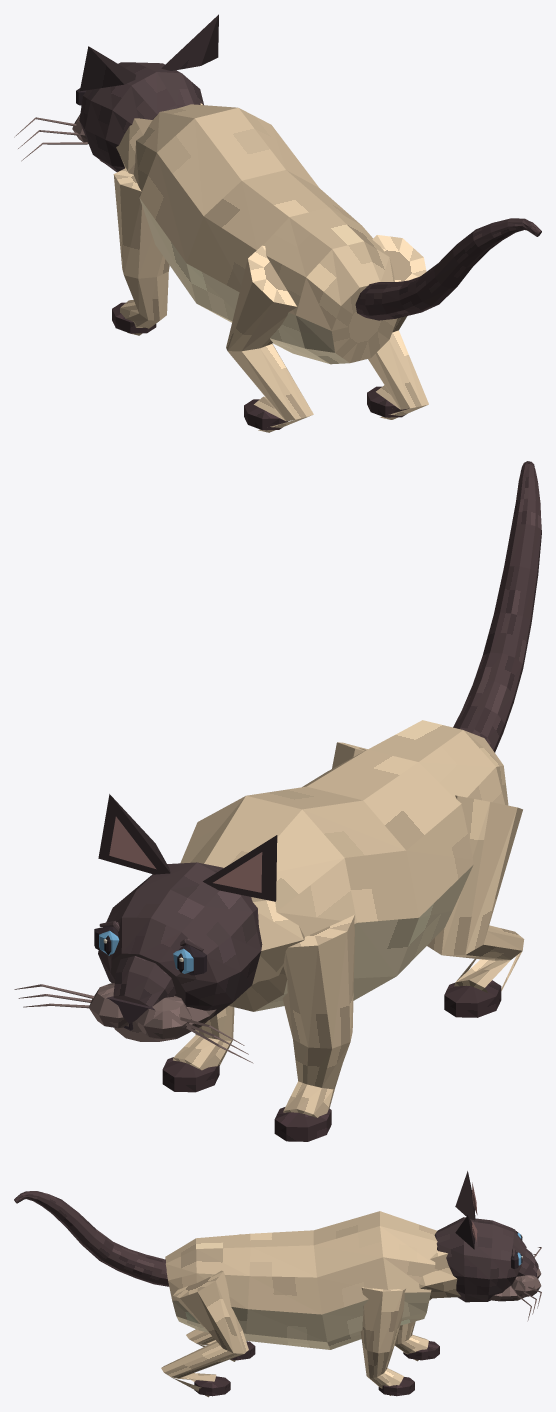
Rendered from mon_cat_siamese_kitten.glb.
The picture shows the model from 3 angles, top to bottom: view 1: azimuth 30°, elevation 25°; view 2: azimuth 150°, elevation 25°; view 3: azimuth 270°, elevation 25°; orthographic projection. The views are drawn at different scales.
Parts seen in each view (by area): view 1: closed_body; view 2: closed_body; view 3: closed_body.
Part boxes in pixels (<box>): closed_body: <box>14,14,541,432</box>; closed_body: <box>14,461,541,1141</box>; closed_body: <box>14,1171,541,1397</box>.
Bounding box in the file's own units: 0.098 × 0.1541 × 0.3572.
Materials: 1 (1 with a texture image).
